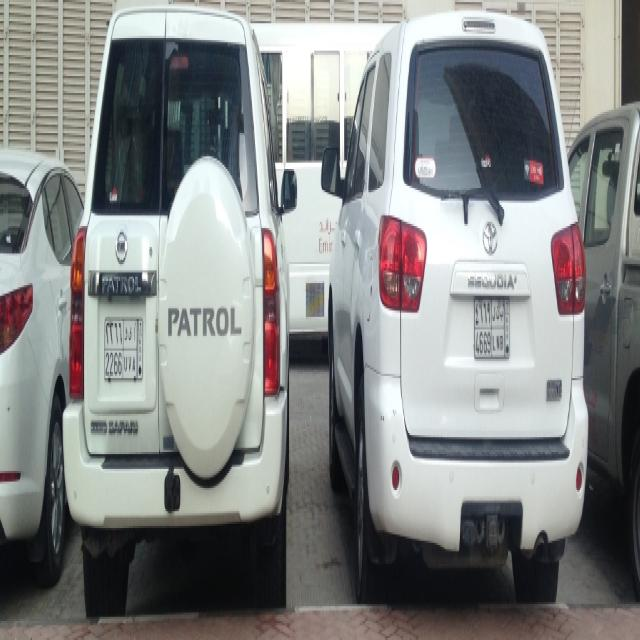license_plate: (104, 315, 144, 384), (473, 292, 510, 361)
